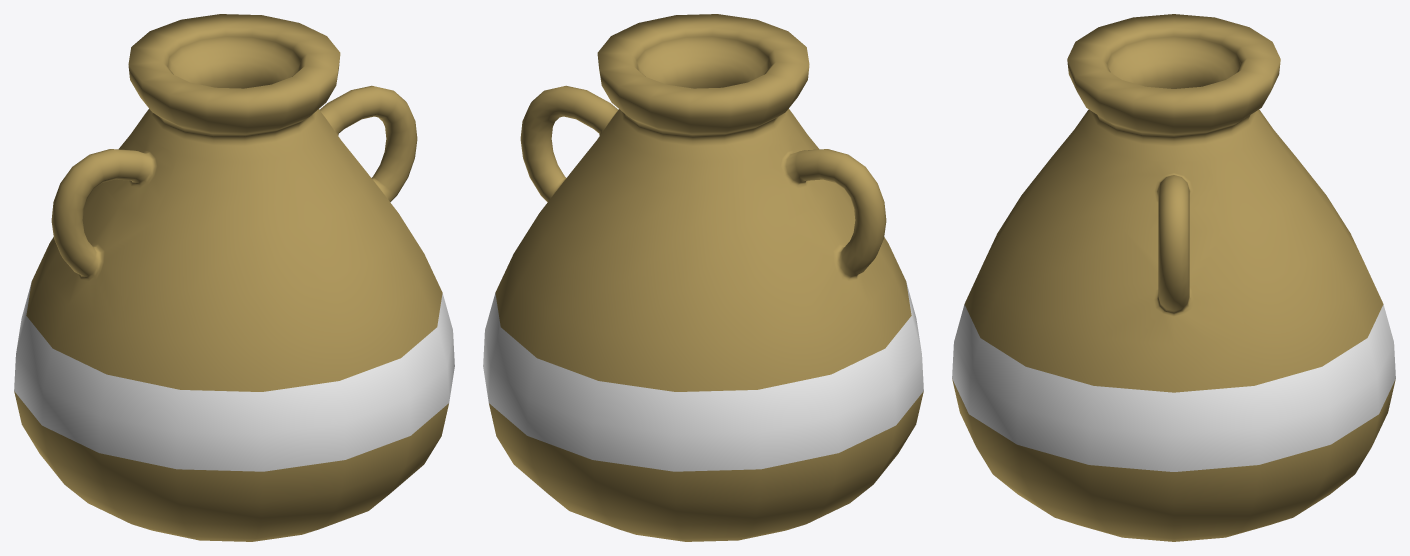
File: desert_pot.fbx
3 views of the same model, side by side, from view 1: azimuth 30°, elevation 25°; view 2: azimuth 150°, elevation 25°; view 3: azimuth 270°, elevation 25° (orthographic).
Visible parts, largest first — view 1: pot; view 2: pot; view 3: pot.
Boxes of the visible parts, x1,y1,x2,y2 form: pot: [14, 14, 454, 541]; pot: [483, 14, 923, 541]; pot: [952, 14, 1395, 541].
Size of the model in its own units: 6.85 by 7.62 by 6.85.
